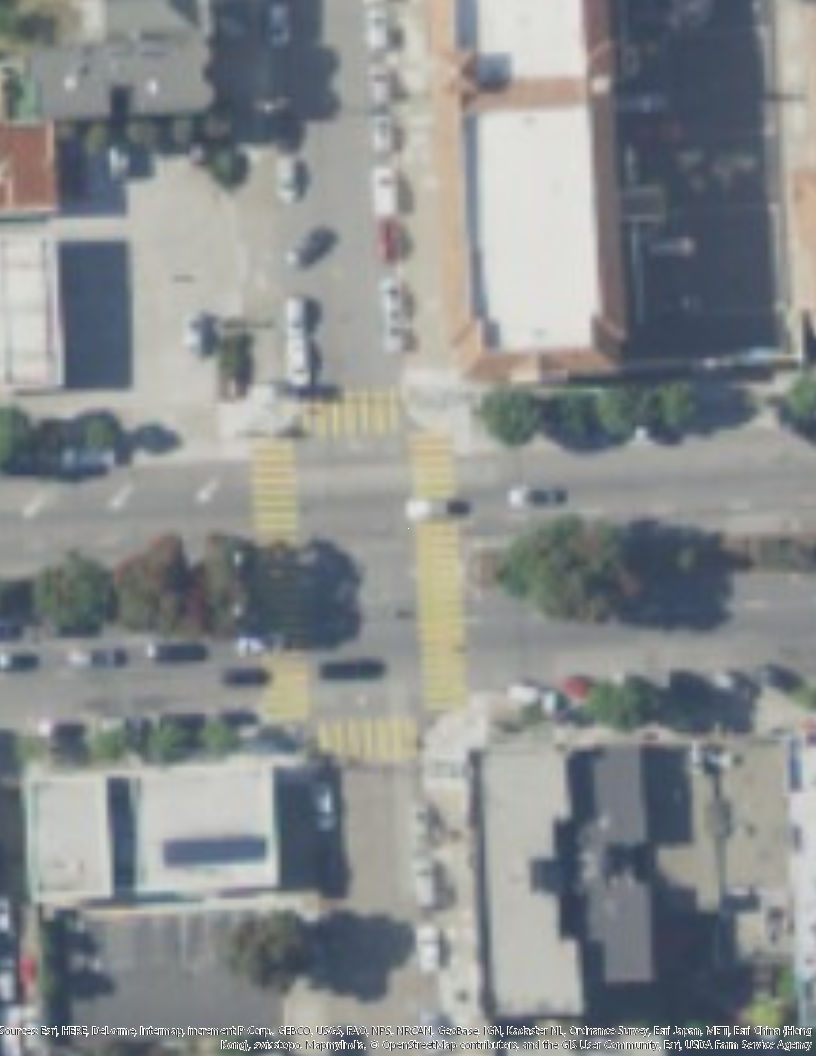zebracross: (249, 437, 315, 721), (407, 433, 470, 710), (316, 711, 419, 772), (296, 383, 409, 432)
